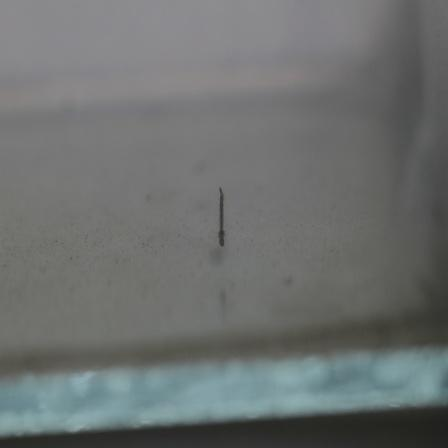Jentik-Nyamuk: (212, 181, 232, 252)
